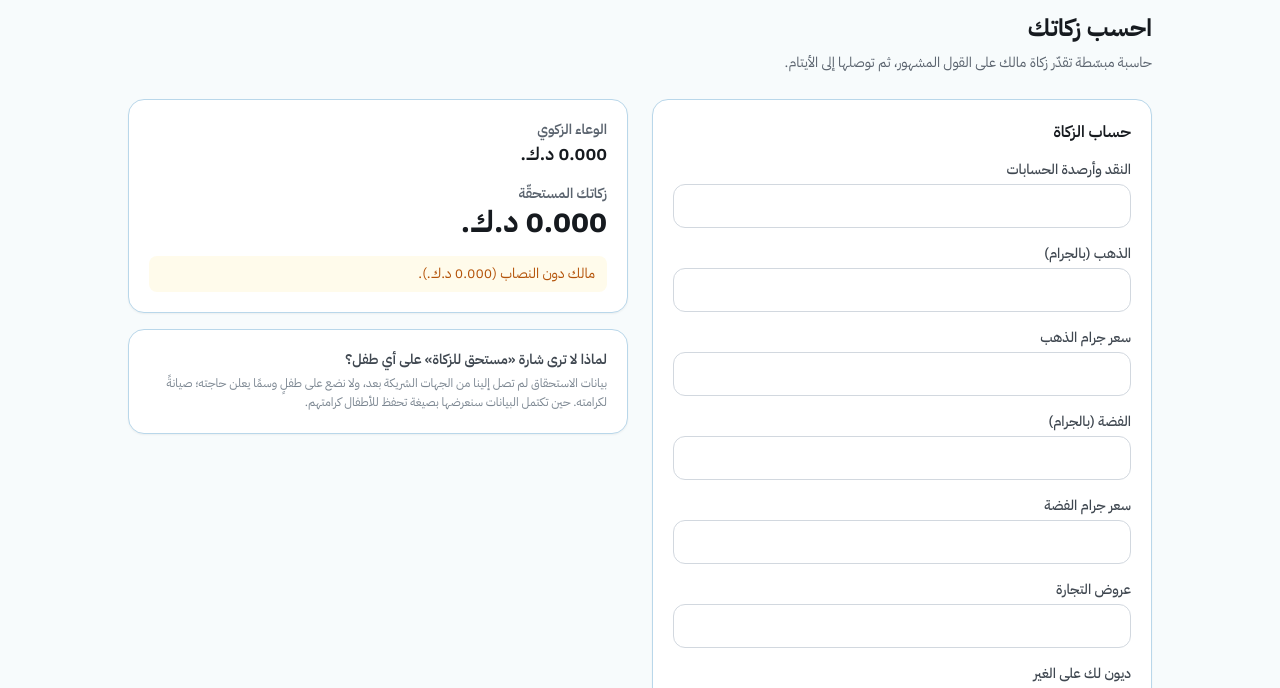
DonorZakatPage — the calculator › entering values renders the result
Type "10000" into the field labelled "النقد وأرصدة الحسابات" at {"x": 902, "y": 206}, box [673, 184, 1131, 228]
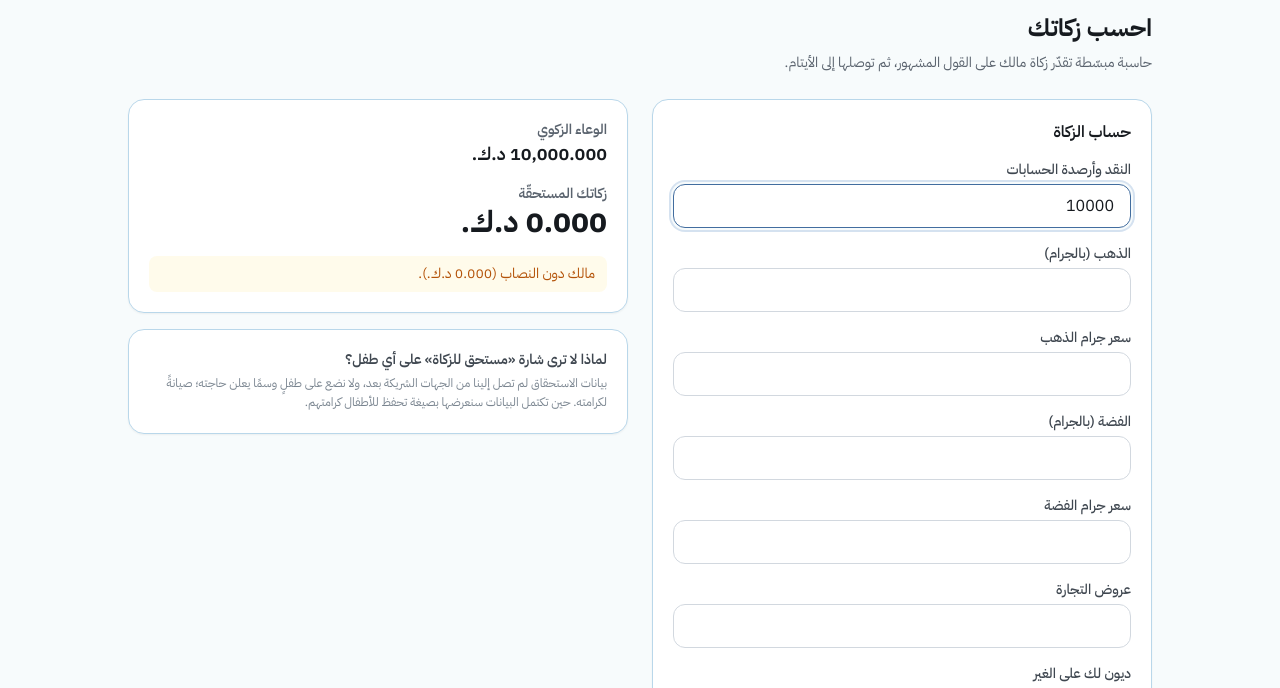
Type "80" into the field labelled "سعر جرام الذهب" at {"x": 902, "y": 374}, box [673, 352, 1131, 396]
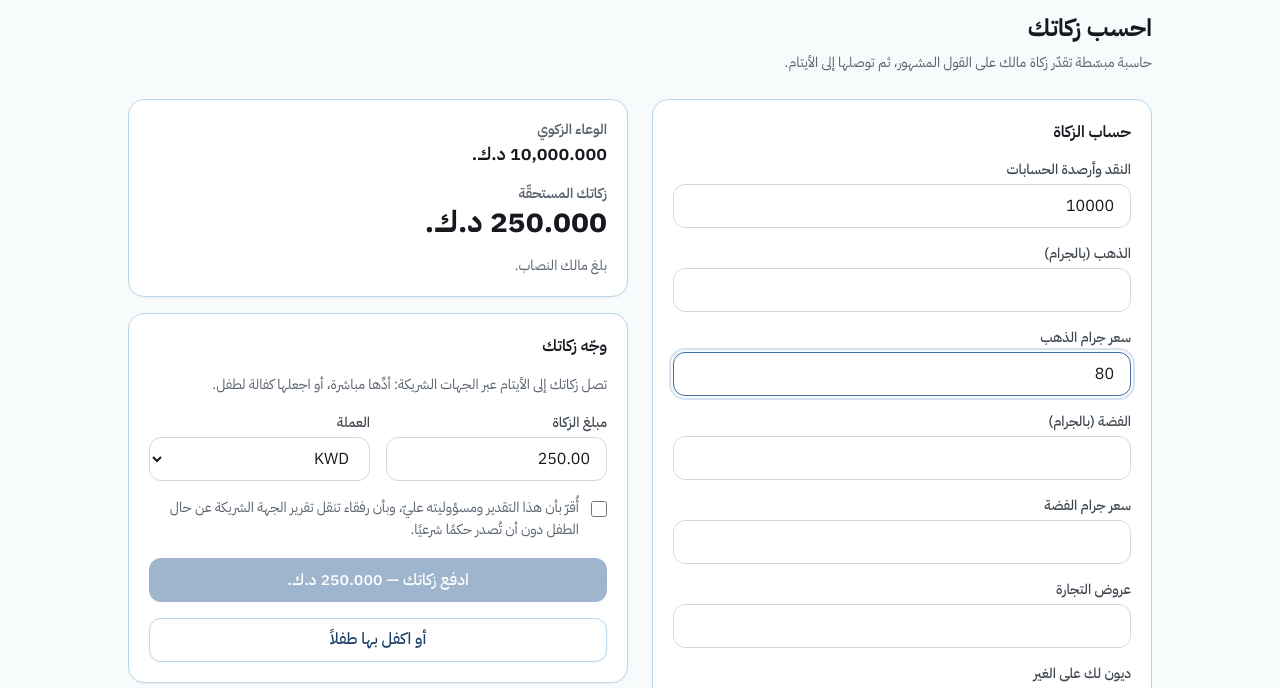
Expected: the heading "زكاتك المستحقّة" is shown, [518, 183, 607, 204]
Now the text "250.000 د.ك." is shown, box [425, 199, 607, 244]
Now the text "بلغ مالك النصاب." is shown, box [515, 255, 607, 276]
